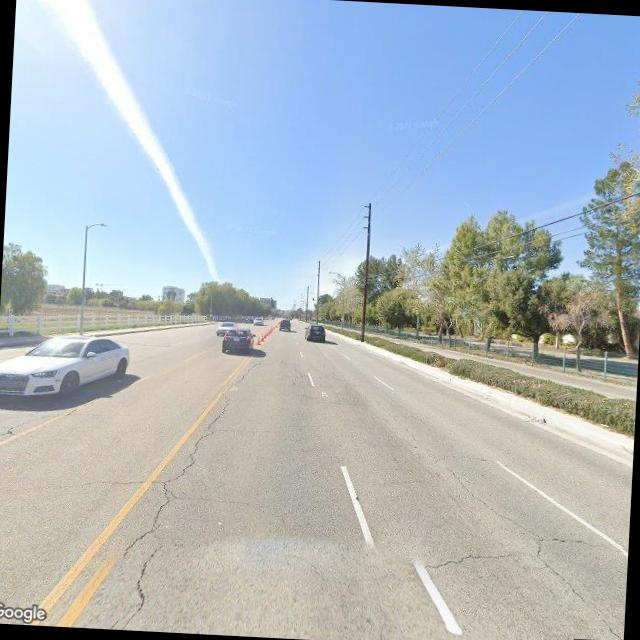crack: (418, 459, 631, 640), (423, 459, 632, 637), (80, 394, 228, 634), (526, 544, 627, 640), (418, 542, 523, 576), (58, 470, 154, 494)
